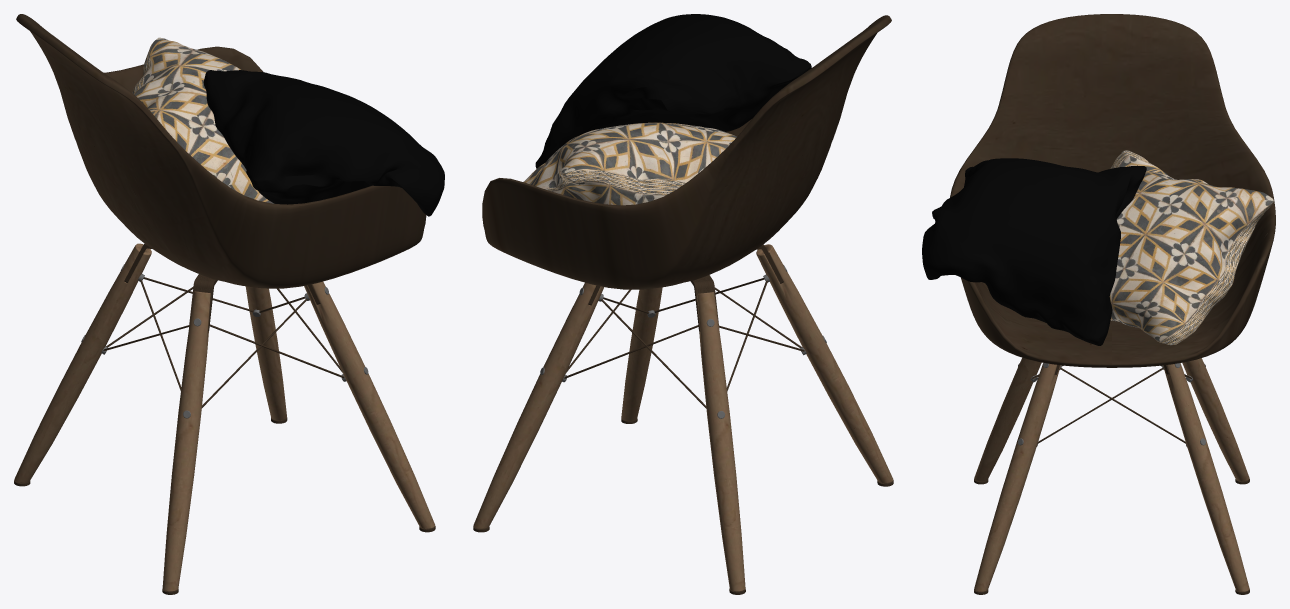
Rendered from chair02.glb.
3 views of the same model, side by side, from view 1: azimuth 30°, elevation 25°; view 2: azimuth 150°, elevation 25°; view 3: azimuth 270°, elevation 25° (orthographic). The views are drawn at different scales.
Visible parts, largest first — view 1: chair02; view 2: chair02; view 3: chair02.
Part boxes in pixels (x1,y1,x2,y2): chair02: [14, 14, 444, 594]; chair02: [473, 14, 893, 594]; chair02: [922, 14, 1275, 594].
Size of the model in its own units: 0.4773 by 0.6883 by 0.4924.
Materials: 5 (3 with a texture image).
